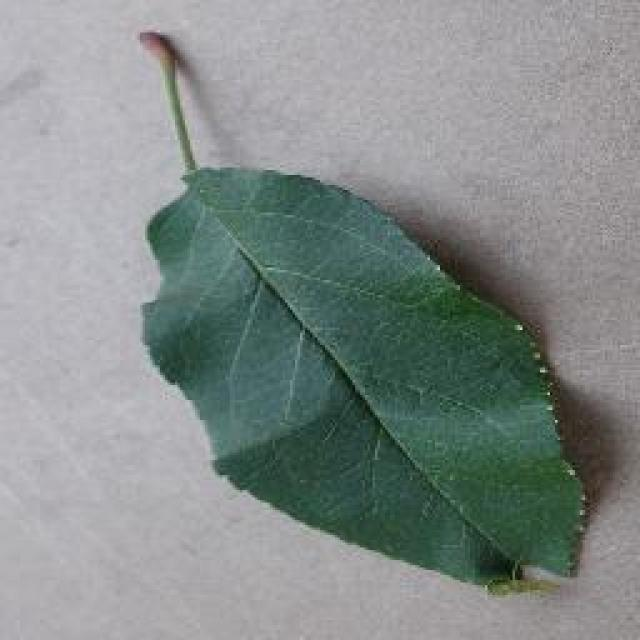apple healthy: (132, 25, 590, 597)
